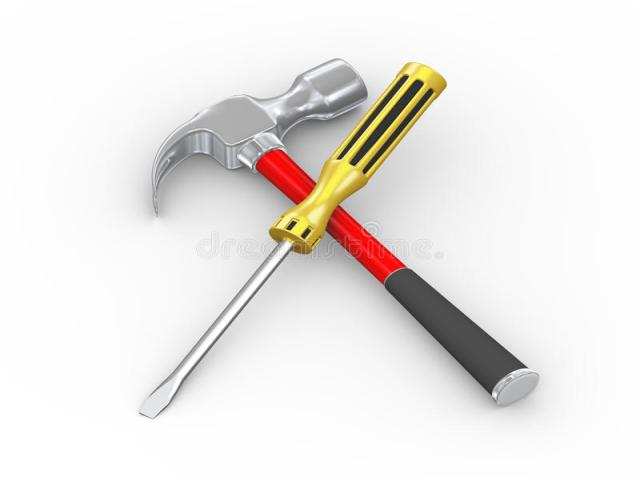Hammer: (149, 58, 540, 410)
Screwdriver: (139, 61, 447, 420)
